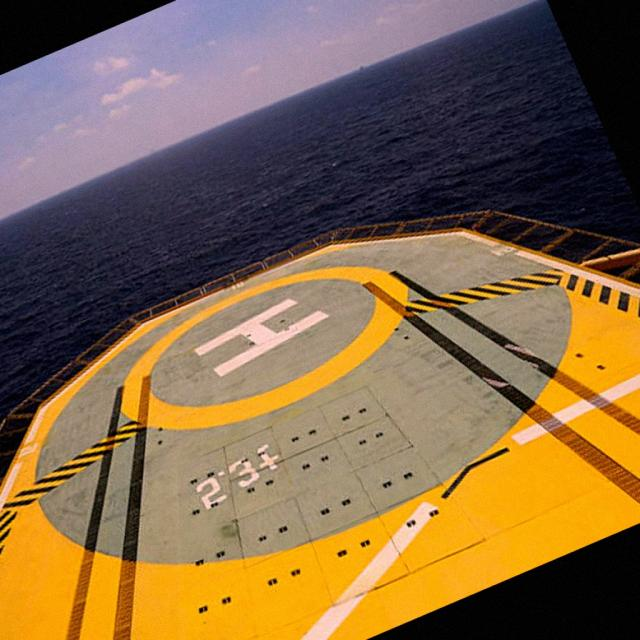helipad: (112, 260, 413, 437)
